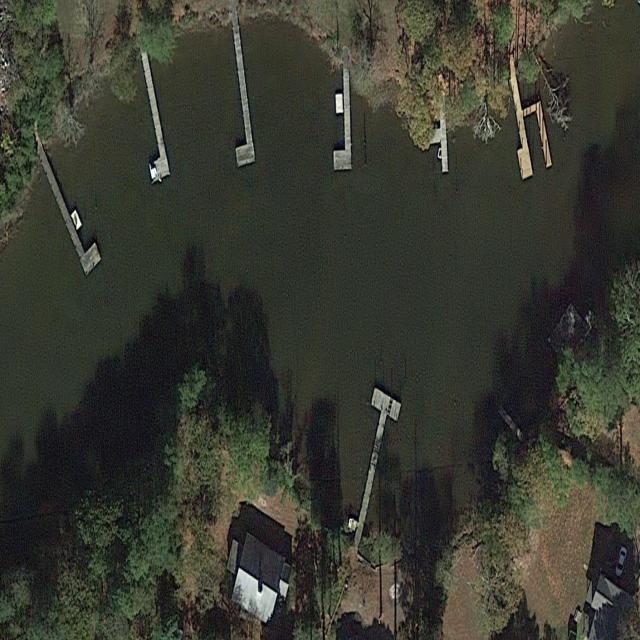small-vehicle: (612, 541, 630, 583)
